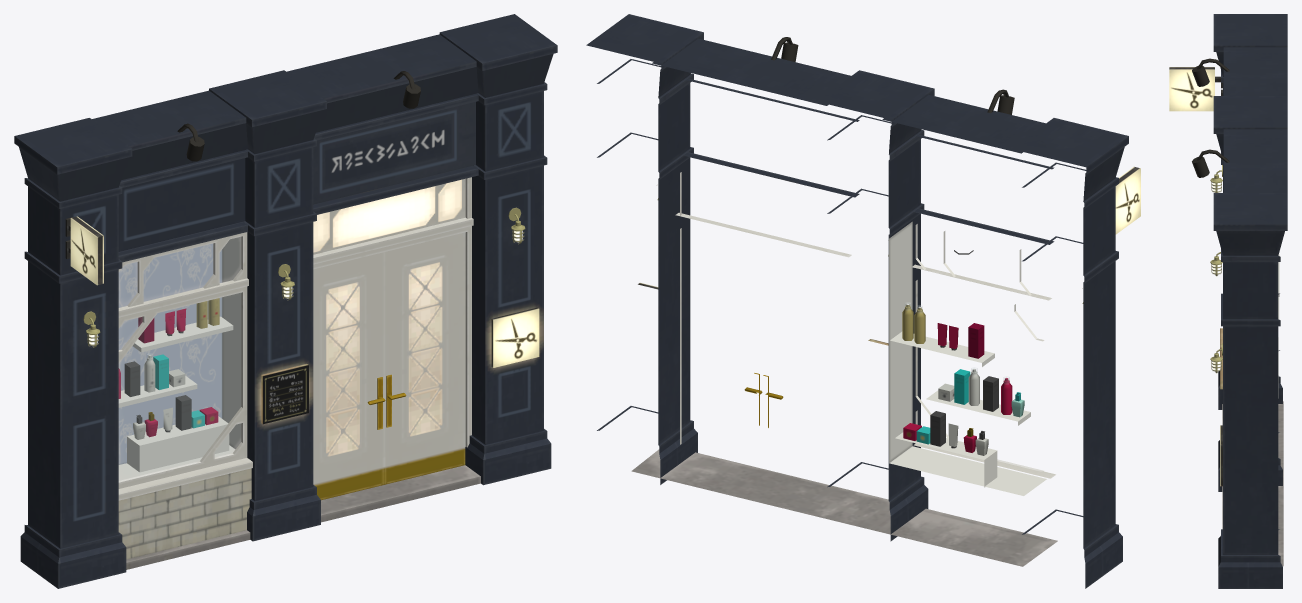
The model's file is t1_b_salon.glb.
3 views of the same model, side by side, from view 1: azimuth 30°, elevation 25°; view 2: azimuth 150°, elevation 25°; view 3: azimuth 270°, elevation 25° (orthographic). The views are drawn at different scales.
Visible parts, largest first — view 1: nomerge_body; view 2: nomerge_body; view 3: nomerge_body.
Boxes of the visible parts, box(x1,y1,x2,y2) form: nomerge_body: box(14, 14, 557, 588); nomerge_body: box(586, 14, 1140, 588); nomerge_body: box(1169, 14, 1287, 588).
Size of the model in its own units: 5.7 by 4.74 by 1.35.
Materials: 3 (3 with a texture image).
